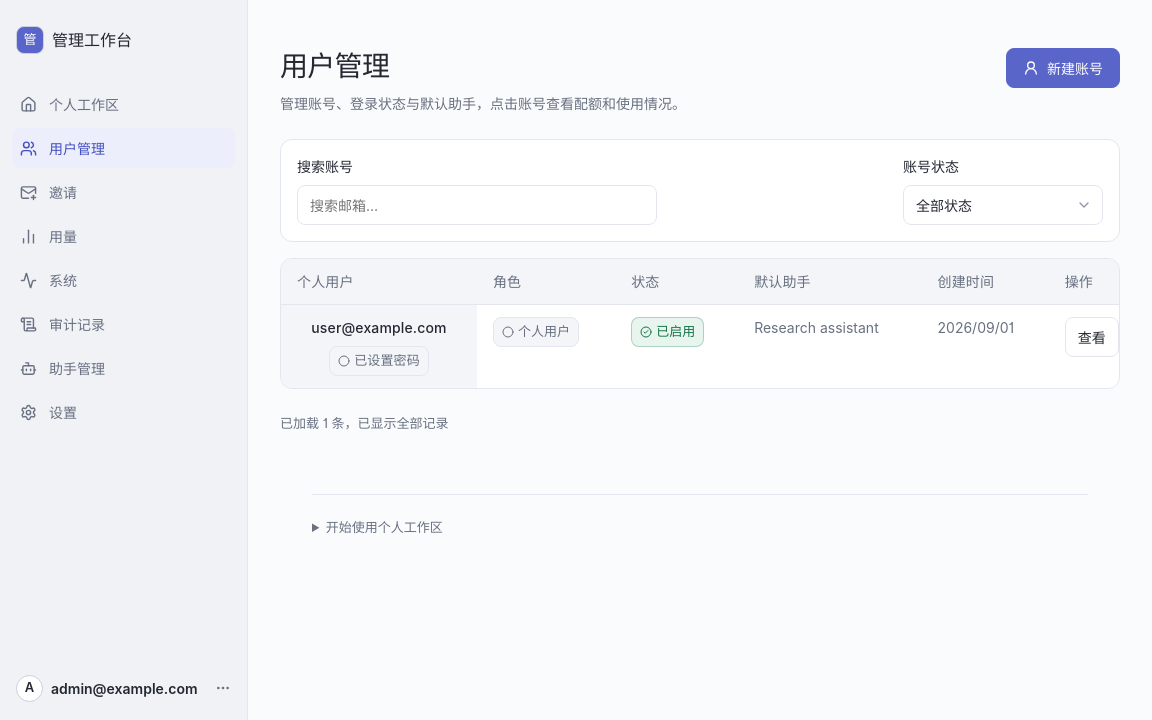
user account administration › creates an account from the New user dialog and refreshes the list
This screenshot has width=1152, height=720.
Click the button "新建账号" at coordinates (1063, 68), box [1006, 48, 1120, 88]
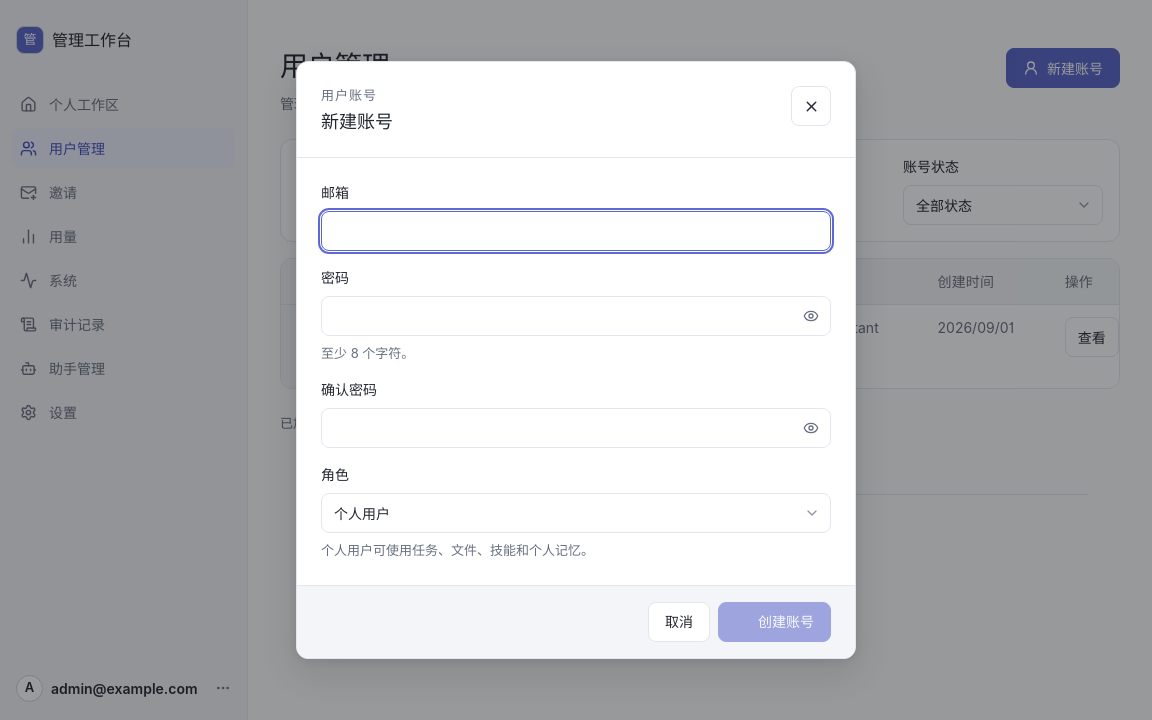
Type "Newcomer@Example.com" into the field labelled "邮箱" at coordinates (576, 231), box [321, 211, 831, 251]
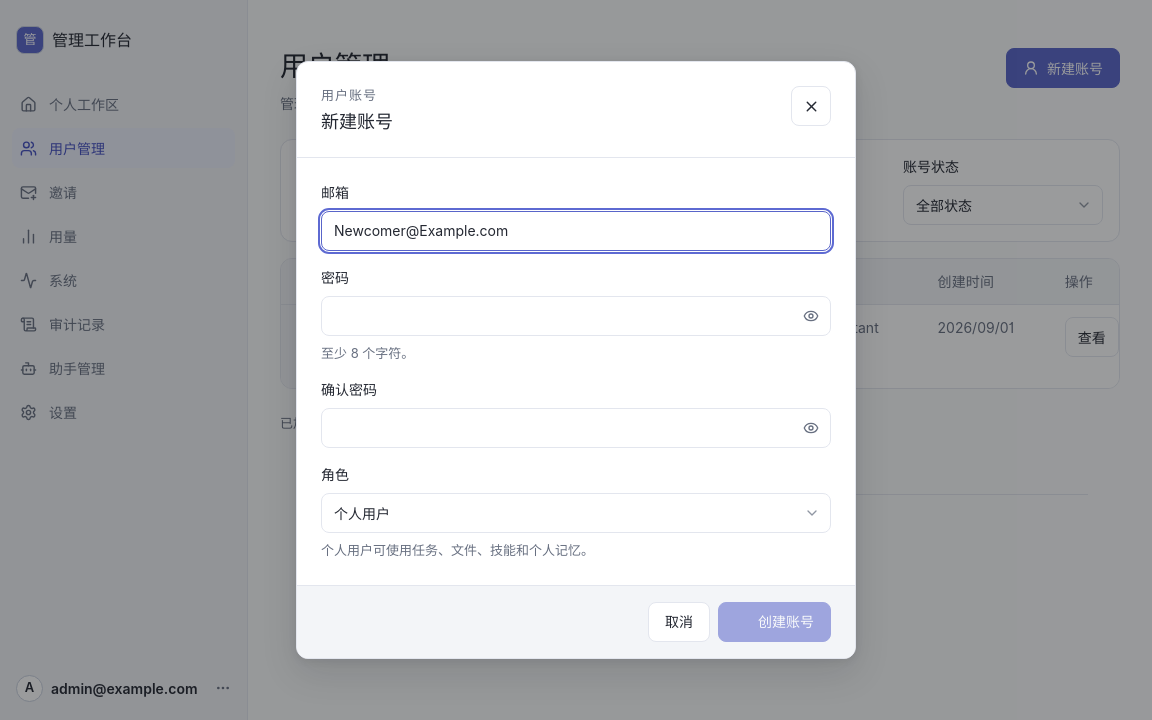
Type "newcomer-password" into the password field labelled "密码" at coordinates (576, 316), box [321, 296, 831, 336]
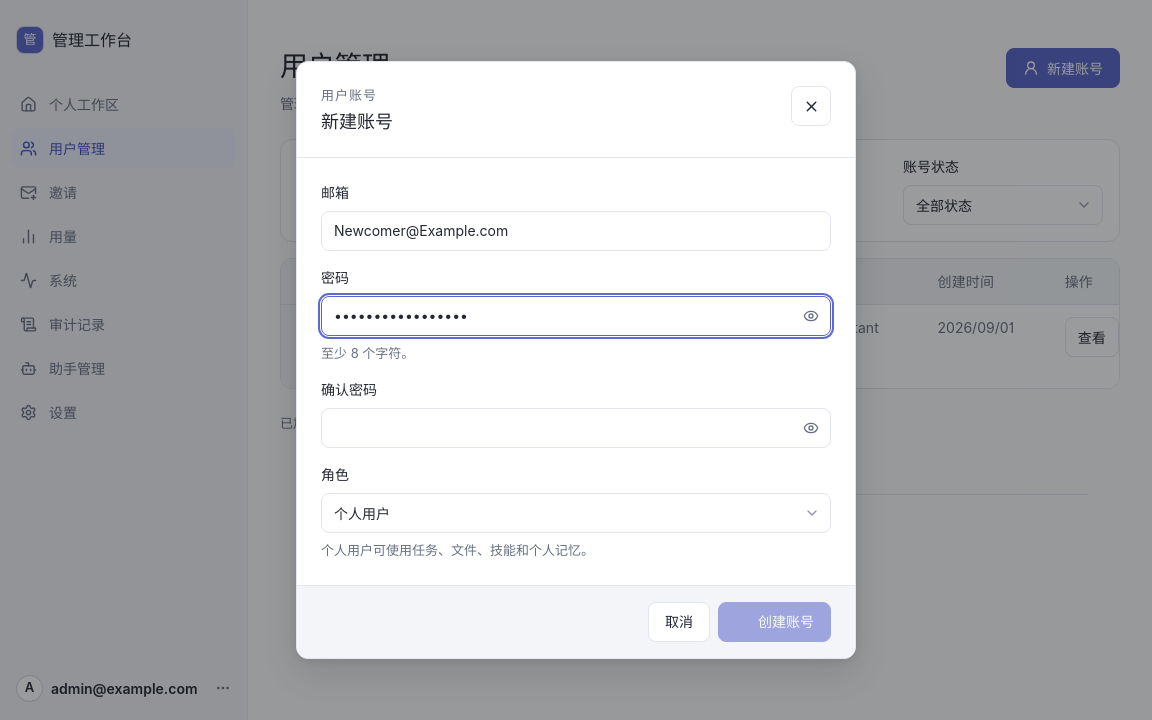
Type "newcomer-password" into the password field labelled "确认密码" at coordinates (576, 428), box [321, 408, 831, 448]
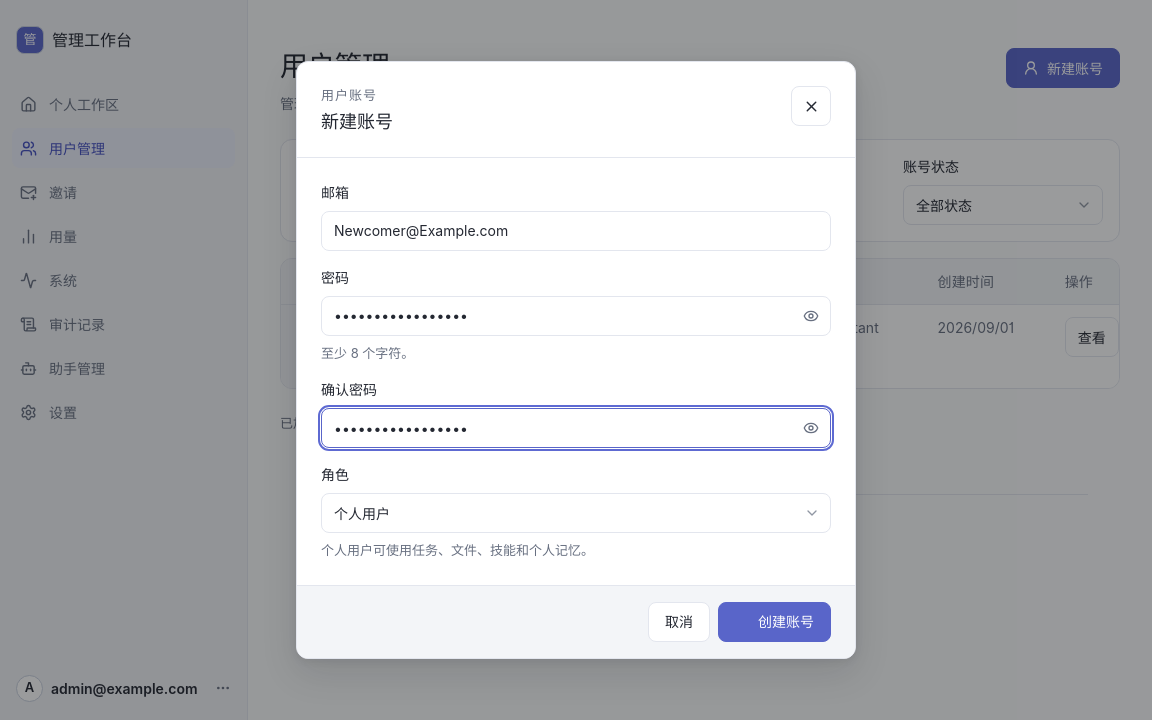
Click the button "创建账号" at coordinates (774, 622), box [718, 602, 831, 642]
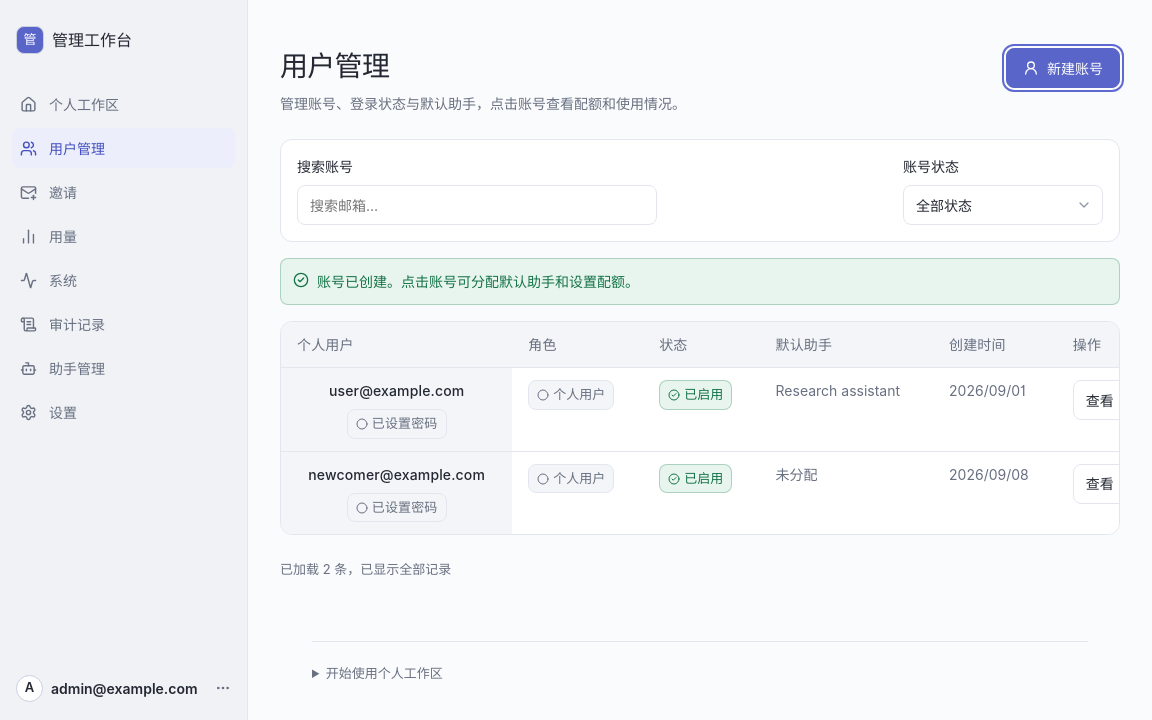
Expected: the link "newcomer@example.com" is shown, [308, 464, 485, 485]
